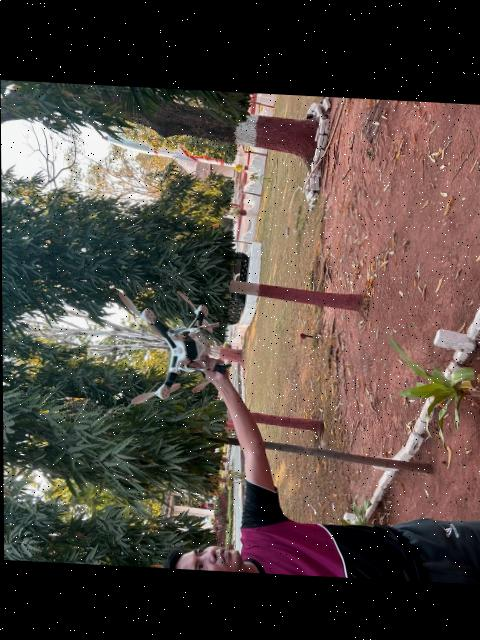drone: (102, 262, 232, 425)
